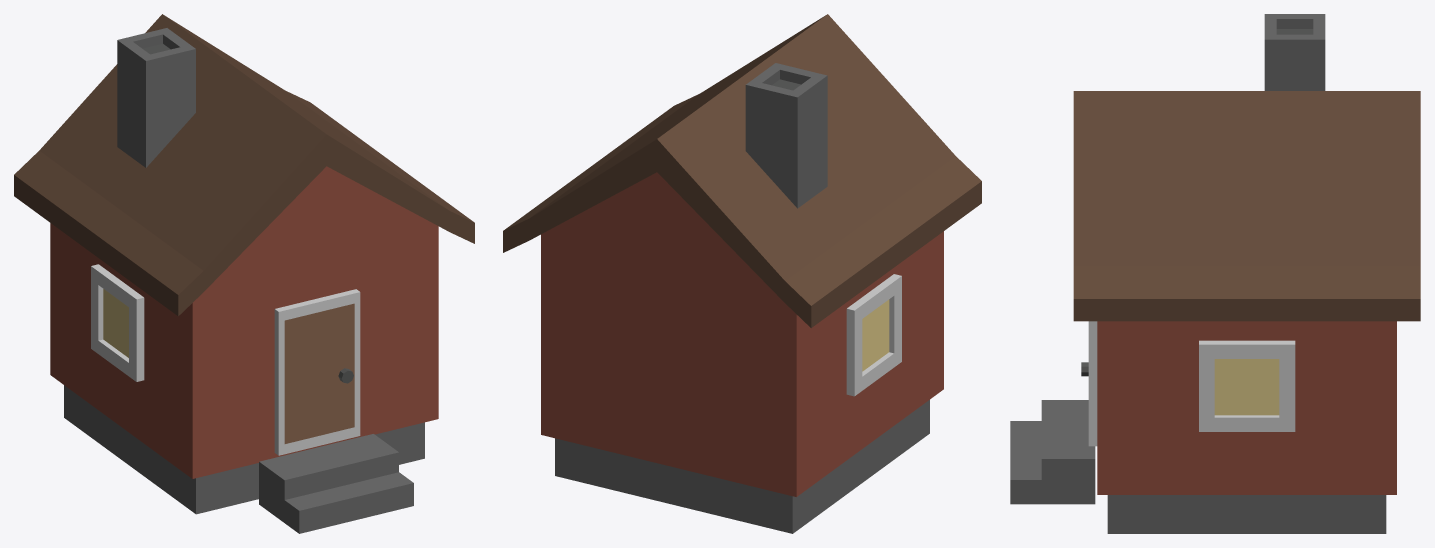
File: env_house1_mesh_01_v1.glb
3 renders of one model, left to right at view 1: azimuth 30°, elevation 25°; view 2: azimuth 150°, elevation 25°; view 3: azimuth 270°, elevation 25°, orthographic. The views are drawn at different scales.
Visible parts, largest first — view 1: House; view 2: House; view 3: House.
Part boxes in pixels (x1,y1,x2,y2): House: [14, 14, 474, 533]; House: [503, 14, 981, 533]; House: [1010, 14, 1420, 533].
Size of the model in its own units: 7.51 by 9.51 by 8.52.
